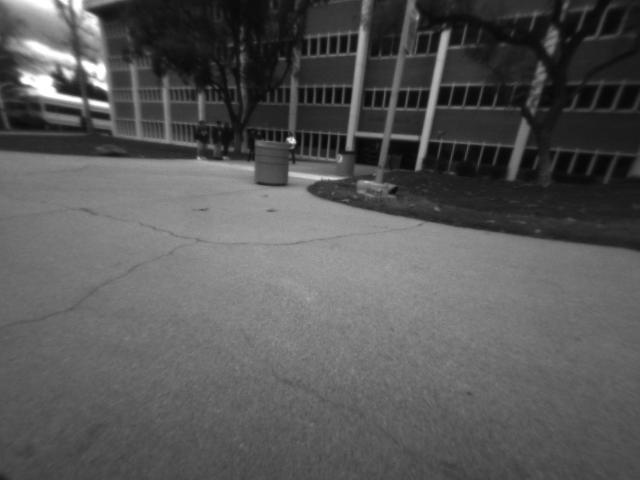trashcan: (249, 132, 295, 192), (330, 142, 359, 179)
